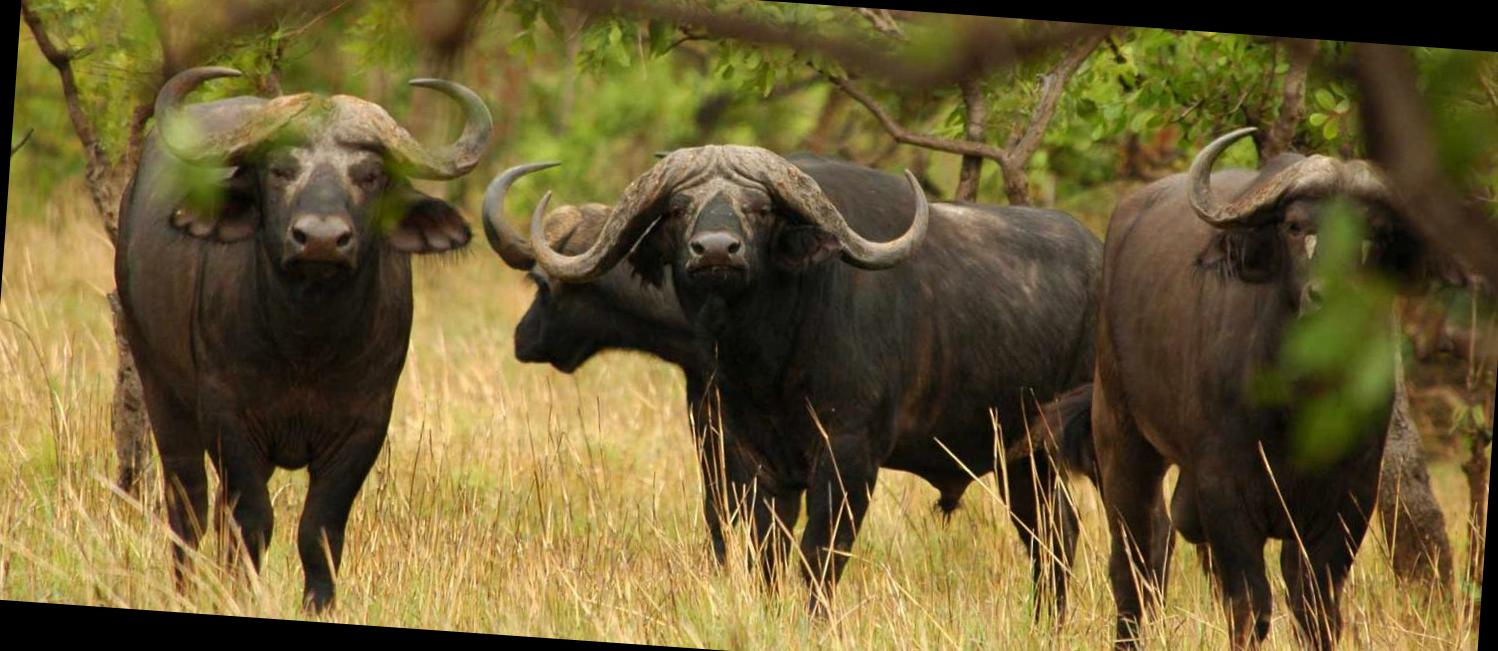Buffalo: (0, 0, 1465, 651)
